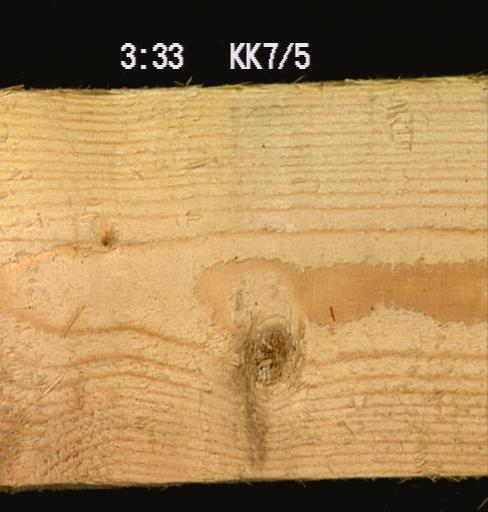small_knot: (95, 220, 122, 253)
